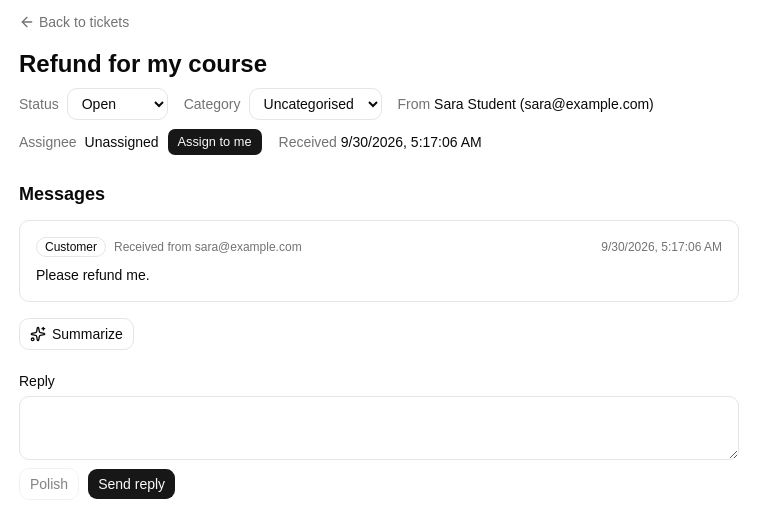
TicketDetailPage › replying › disables Polish while the reply box is empty
expect the button "Polish" is disabled: met, box [19,468,79,500]
Type "hi" into the text box labelled "Reply" at (379, 428), box [19,396,739,460]
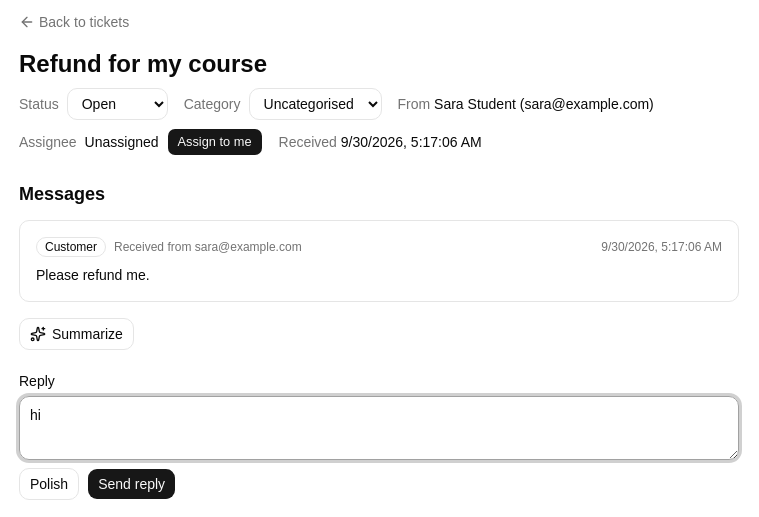
expect the button "Polish" is enabled: met, box [19,468,79,500]
